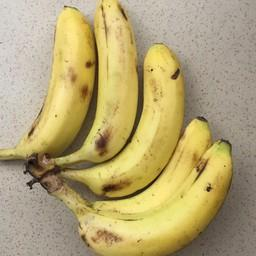Good_banana: (53, 146, 243, 256), (89, 41, 179, 196), (28, 0, 93, 170), (92, 3, 137, 161)
